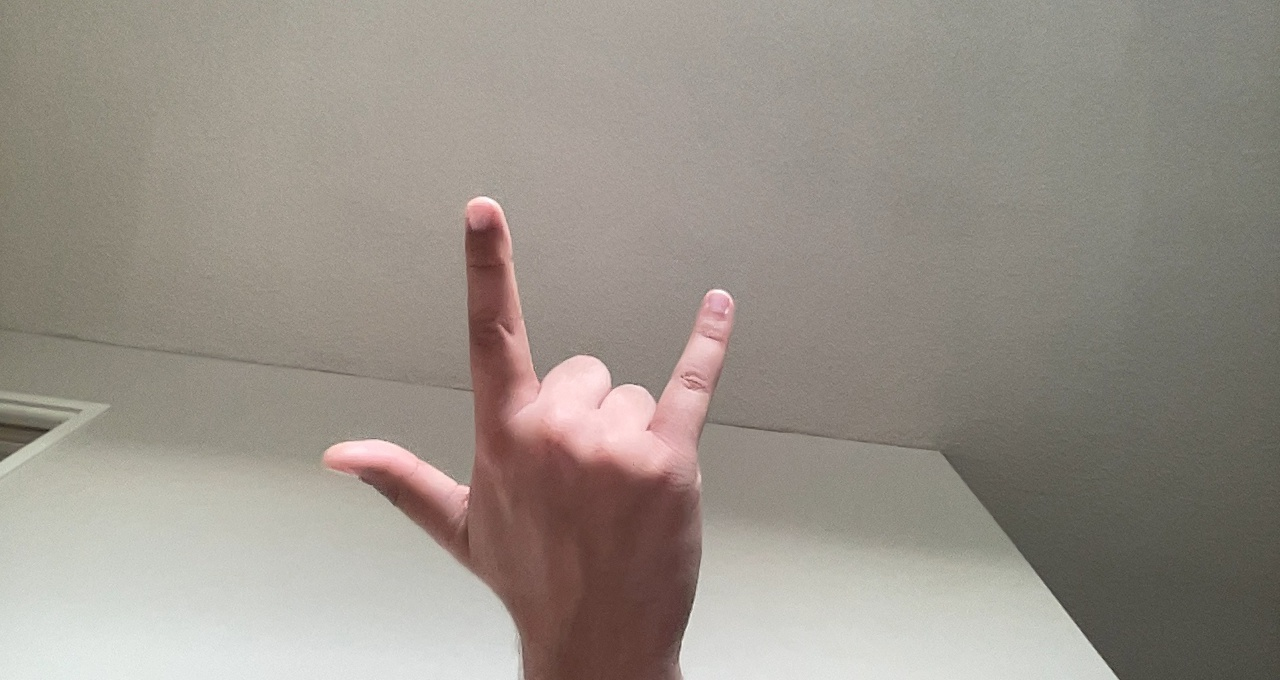rockon sign: (311, 151, 738, 599)
